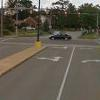Car: (45, 26, 73, 44)
